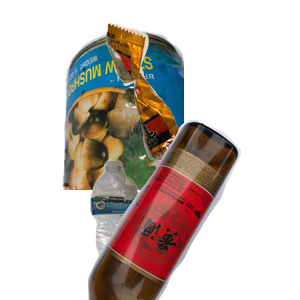glass: (85, 120, 300, 300)
metal: (60, 28, 300, 208)
plastic: (88, 158, 229, 300)
trash: (103, 21, 300, 174)
